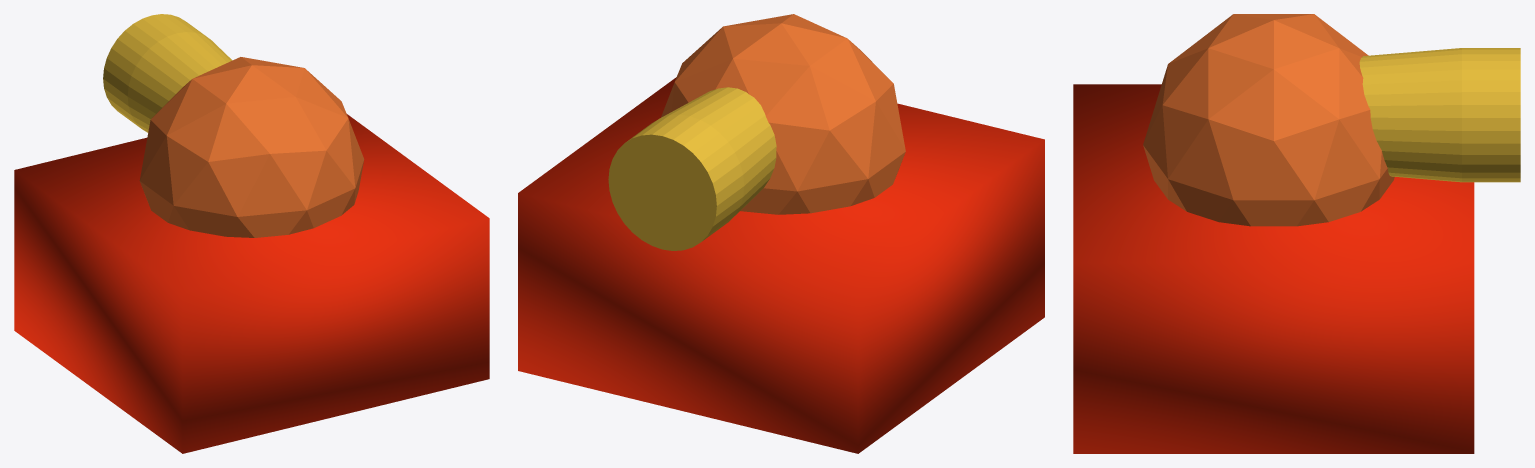
File: tank_player_1.fbx
3 views of the same model, side by side, from view 1: azimuth 30°, elevation 25°; view 2: azimuth 150°, elevation 25°; view 3: azimuth 270°, elevation 25° (orthographic). The views are drawn at different scales.
Parts seen in each view (by area): view 1: 玩家坦克, 棱角球, 柱体; view 2: 玩家坦克, 棱角球, 柱体; view 3: 玩家坦克, 棱角球, 柱体.
Part boxes in pixels (x1=…): 玩家坦克: x1=14, y1=114, x2=489, y2=453; 棱角球: x1=139, y1=57, x2=364, y2=237; 柱体: x1=103, y1=14, x2=232, y2=132; 玩家坦克: x1=518, y1=77, x2=1044, y2=453; 棱角球: x1=661, y1=14, x2=905, y2=214; 柱体: x1=608, y1=87, x2=776, y2=250; 玩家坦克: x1=1073, y1=84, x2=1474, y2=453; 棱角球: x1=1143, y1=14, x2=1394, y2=226; 柱体: x1=1359, y1=48, x2=1520, y2=182.
Bounding box in the file's own units: 1 × 0.9015 × 1.06.
